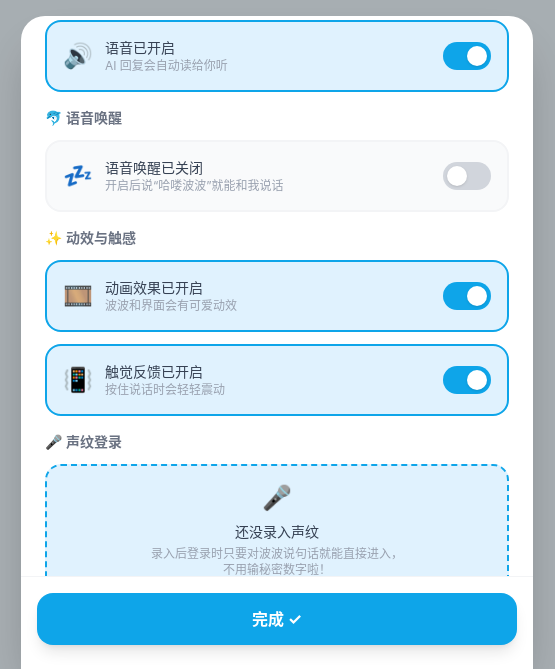
SettingsPanel › 动效与触感开关：点击切换并持久化（design/37 §4.3）
(page scrolled)
Expected: the heading "✨ 动效与触感" is shown, [45,229,136,246]
Expected: the text "动画效果已开启" is shown, [105,279,203,296]
Click the button with test id "toggle-animation": (154, 287) [45,260,509,332]
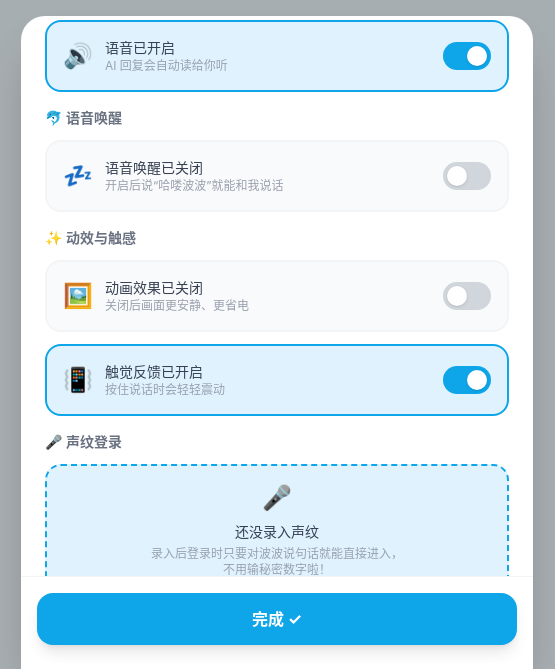
Expected: the text "触觉反馈已开启" is shown, [105,363,203,380]
Expected: the text "动画效果已关闭" is shown, [105,279,203,296]
Click the button with test id "toggle-haptics": (154, 371) [45,344,509,416]
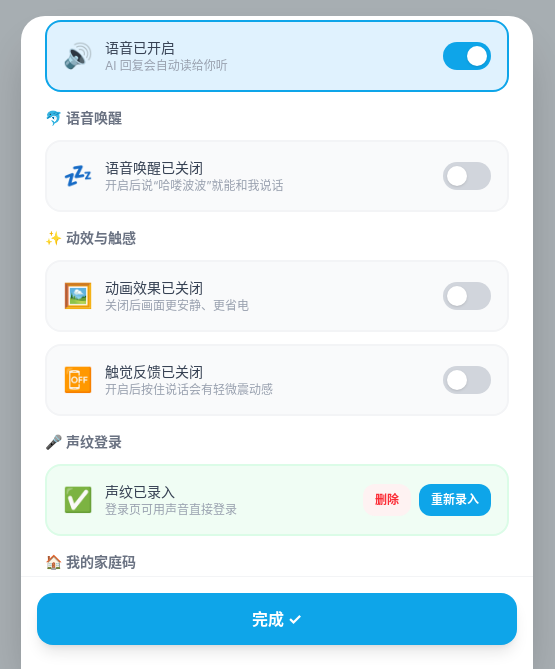
Expected: the text "触觉反馈已关闭" is shown, [105,363,203,380]
